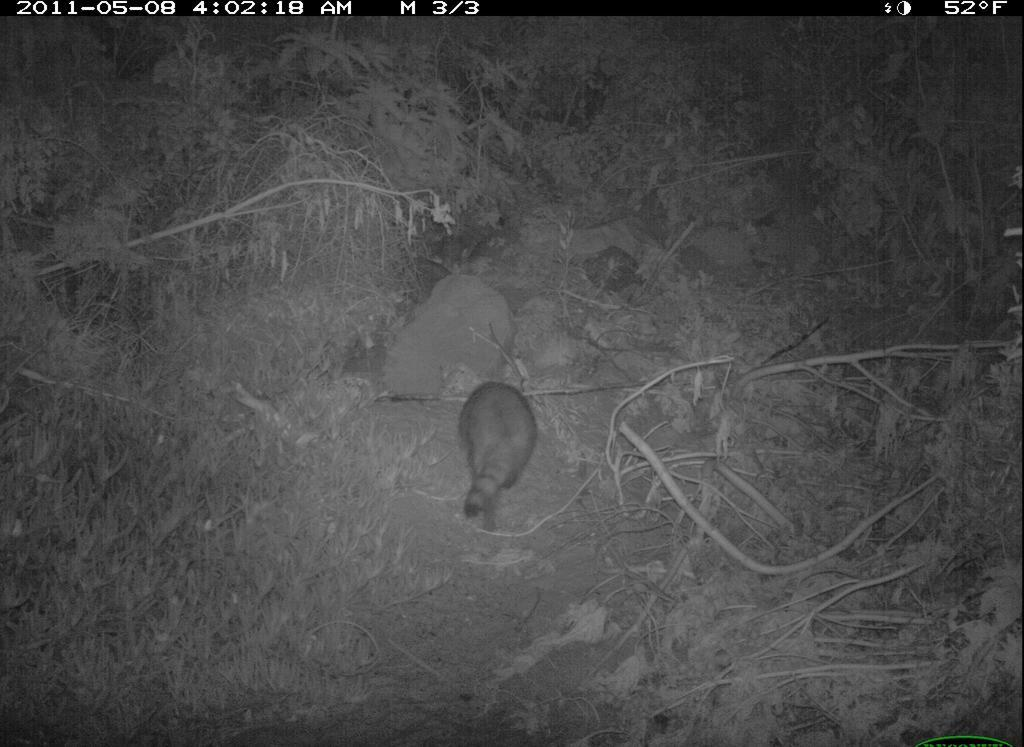raccoon: (455, 373, 543, 543)
